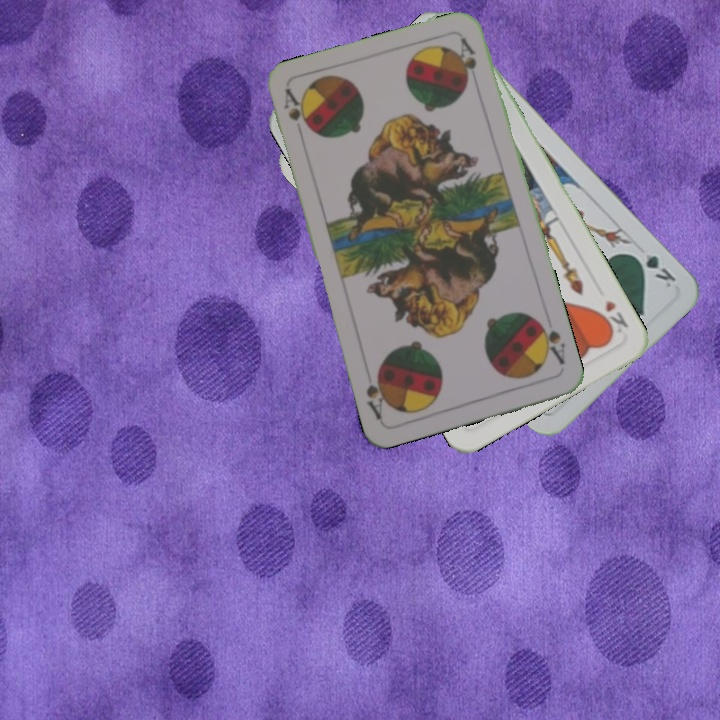GK: (628, 249, 679, 291)
HK: (595, 295, 631, 338)
SA: (280, 85, 312, 143), (532, 316, 568, 367)
